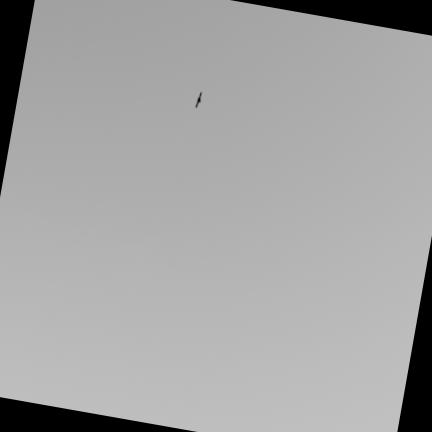Shahed: (195, 91, 202, 108)
